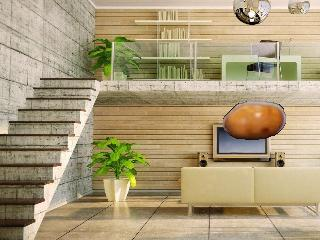potato: (220, 100, 290, 142)
